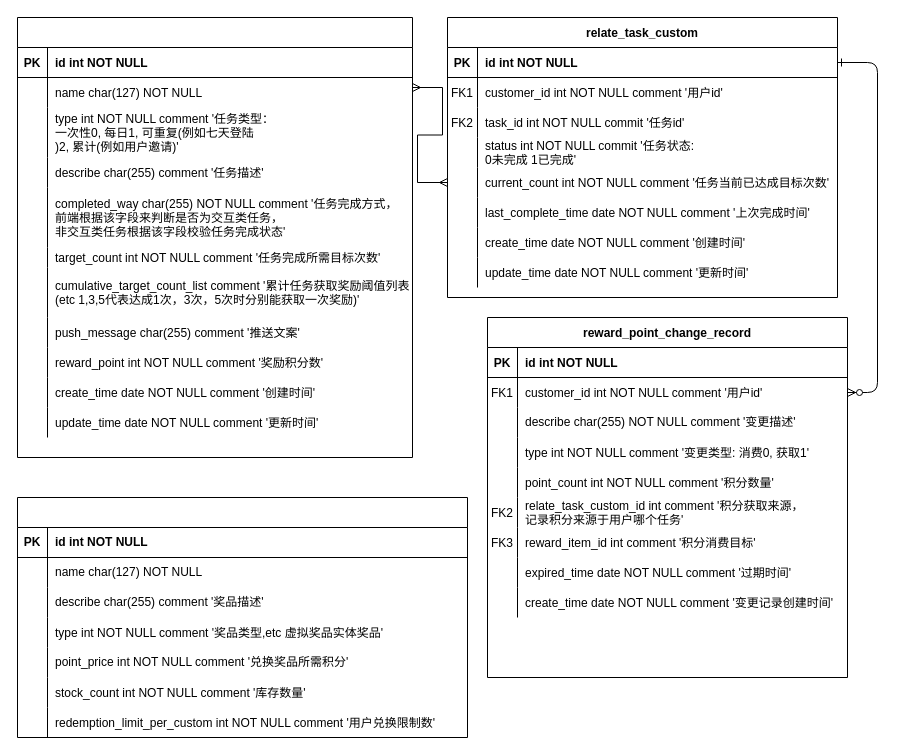
This 904x755 diagram has some shape labels left out. The box of each missing label's shape, as (x1, y1, x2, y2) in pixels:
reward_item: (16, 496, 468, 738)
task: (16, 16, 412, 458)
